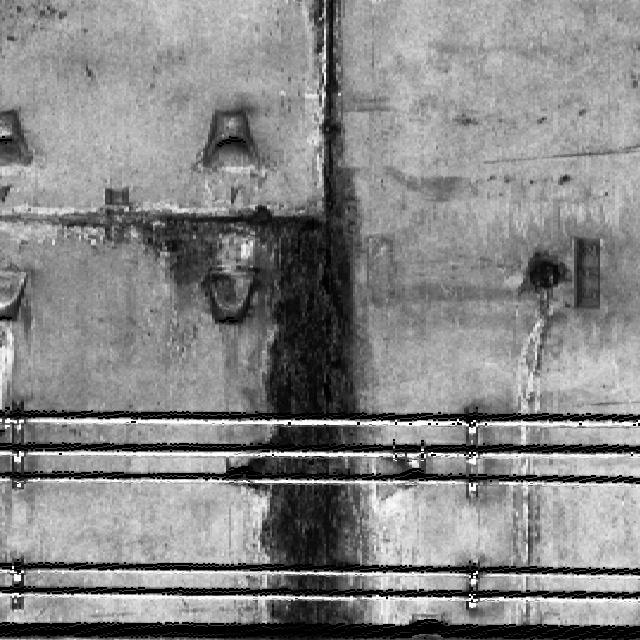leakage: (234, 0, 374, 627), (0, 186, 233, 287)
